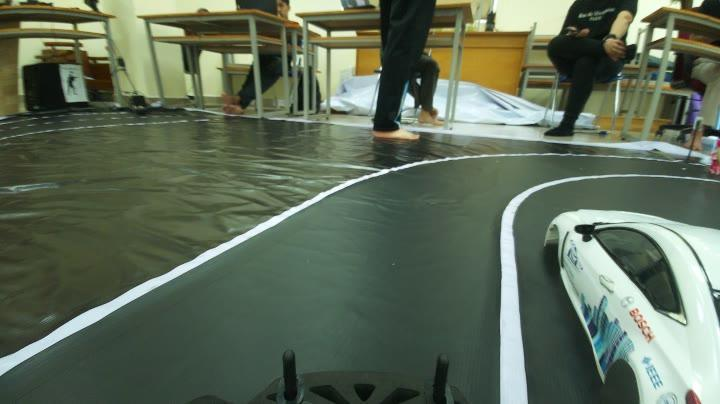car: (563, 182, 720, 404)
